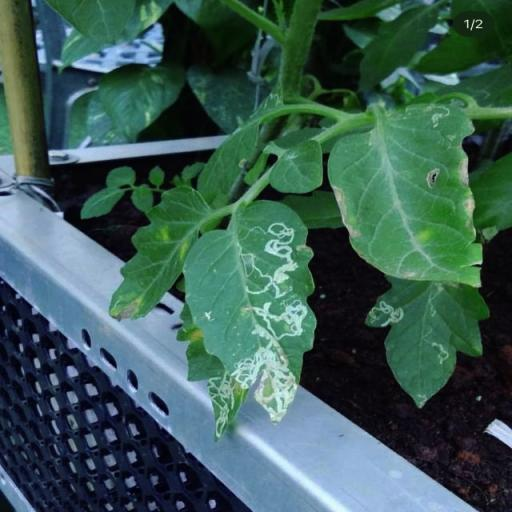Leaf Miner: (180, 200, 320, 426), (368, 278, 492, 408)
